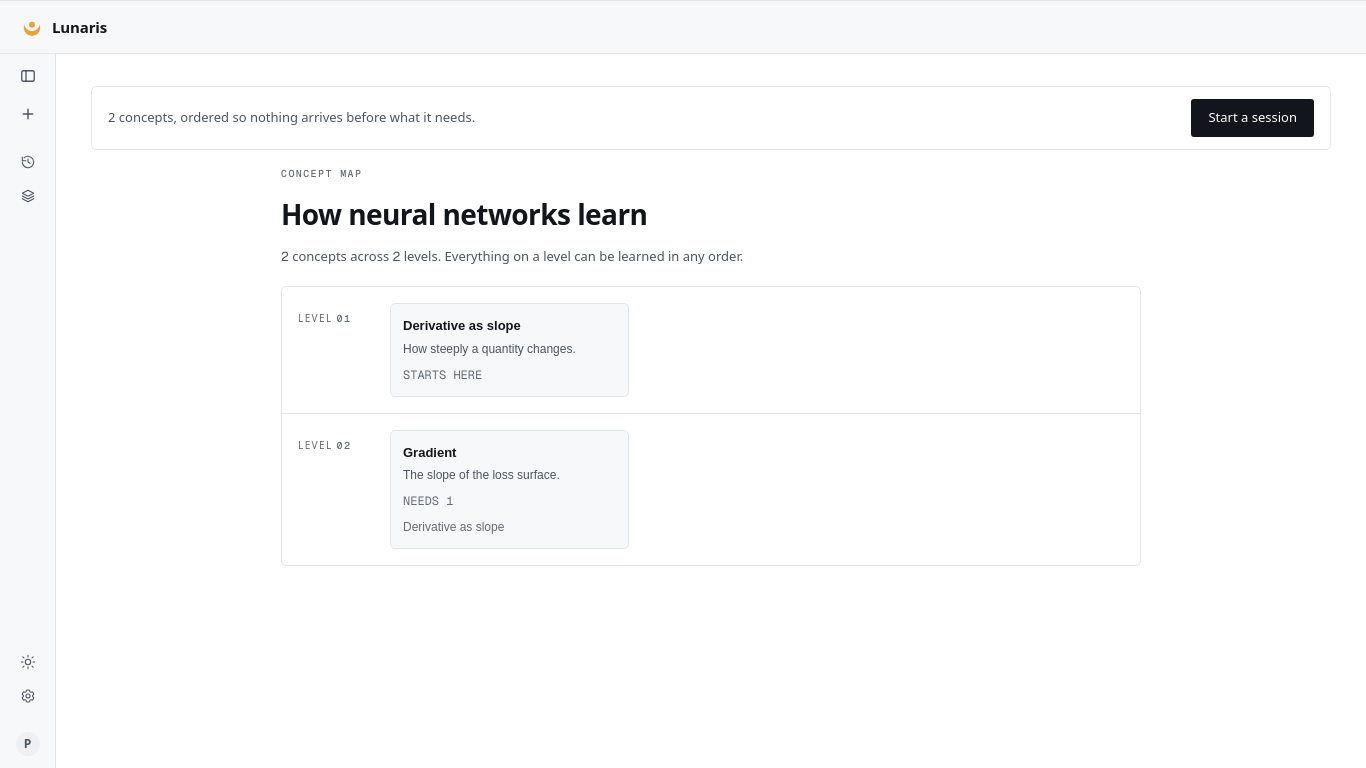
Test: LiveShell — the concept's teaching notes › names what the concept needs first, in the learner's language not in ids
This screenshot has width=1366, height=768.
Click the button "Gradient": (510, 489) [390,430,629,549]
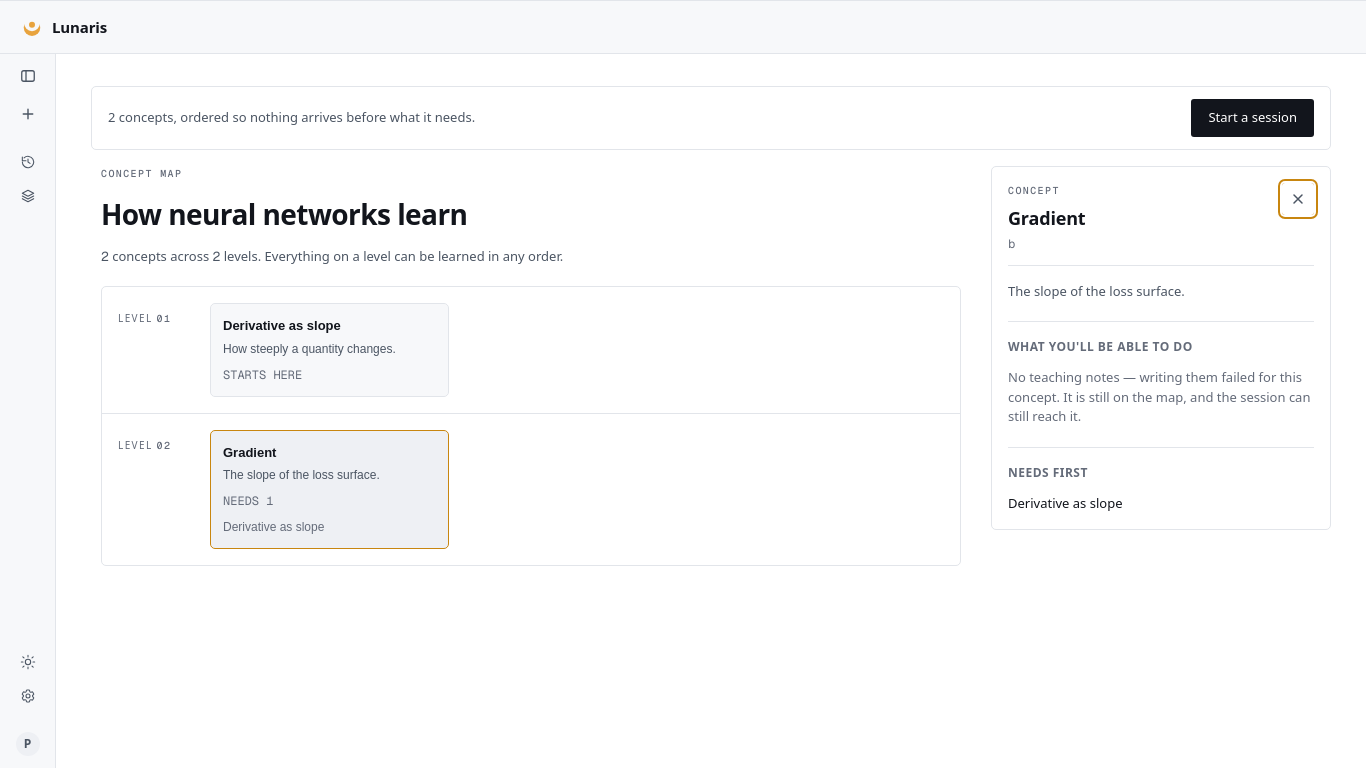
Expected: the list item "Derivative as slope" is shown, [1008,494,1122,512]
